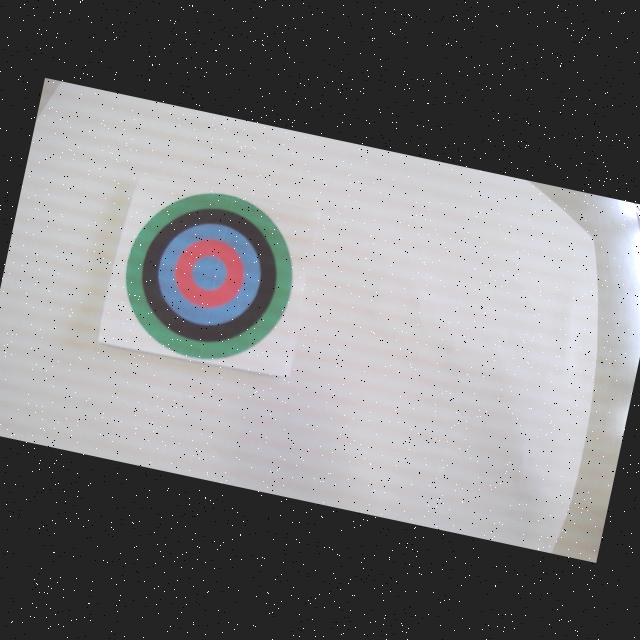COGNITIVE: (109, 176, 310, 377)
